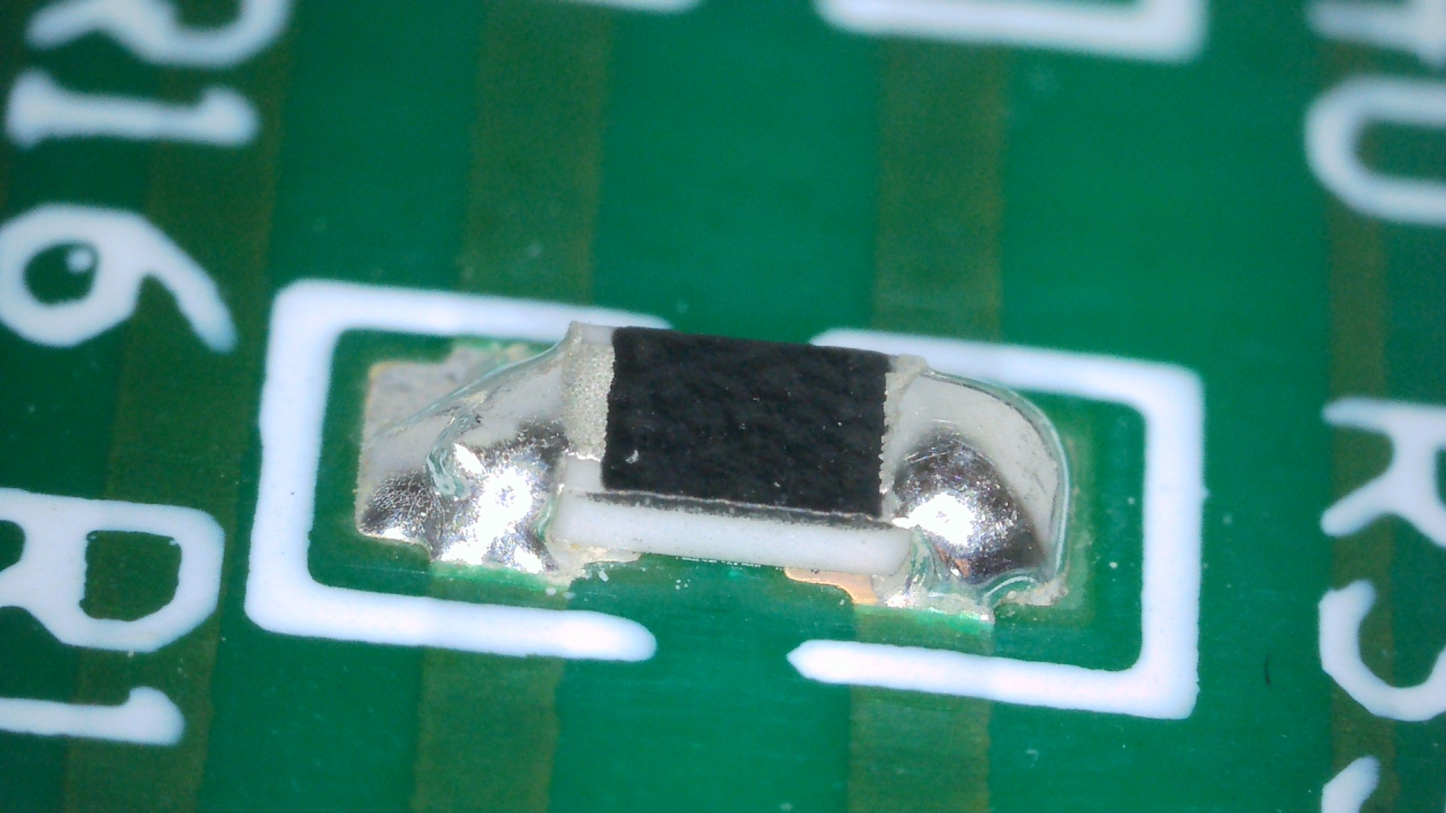NG: (355, 324, 618, 577), (874, 352, 1070, 619)
